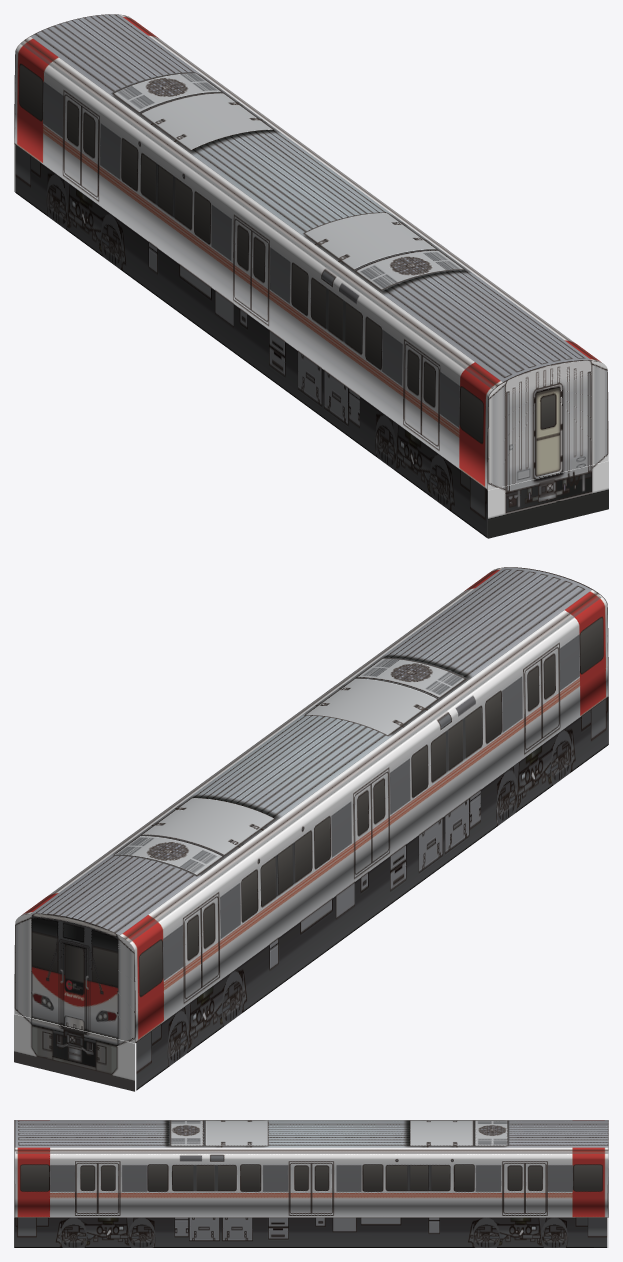
The model's file is car2.glb.
The picture shows the model from 3 angles, top to bottom: view 1: azimuth 30°, elevation 25°; view 2: azimuth 150°, elevation 25°; view 3: azimuth 270°, elevation 25°; orthographic projection. The views are drawn at different scales.
Visible parts, largest first — view 1: jrw227-0-car2; view 2: jrw227-0-car2; view 3: jrw227-0-car2.
Part boxes in pixels (x1=…): jrw227-0-car2: x1=14, y1=14, x2=608, y2=538; jrw227-0-car2: x1=14, y1=567, x2=608, y2=1091; jrw227-0-car2: x1=14, y1=1120, x2=608, y2=1247.
Size of the model in its own units: 2.95 by 3.68 by 20.03.
Materials: 9 (8 with a texture image).
